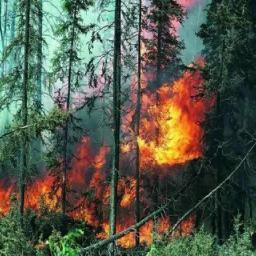Large fire: (0, 35, 220, 252)
Low smoke: (0, 0, 241, 176)
